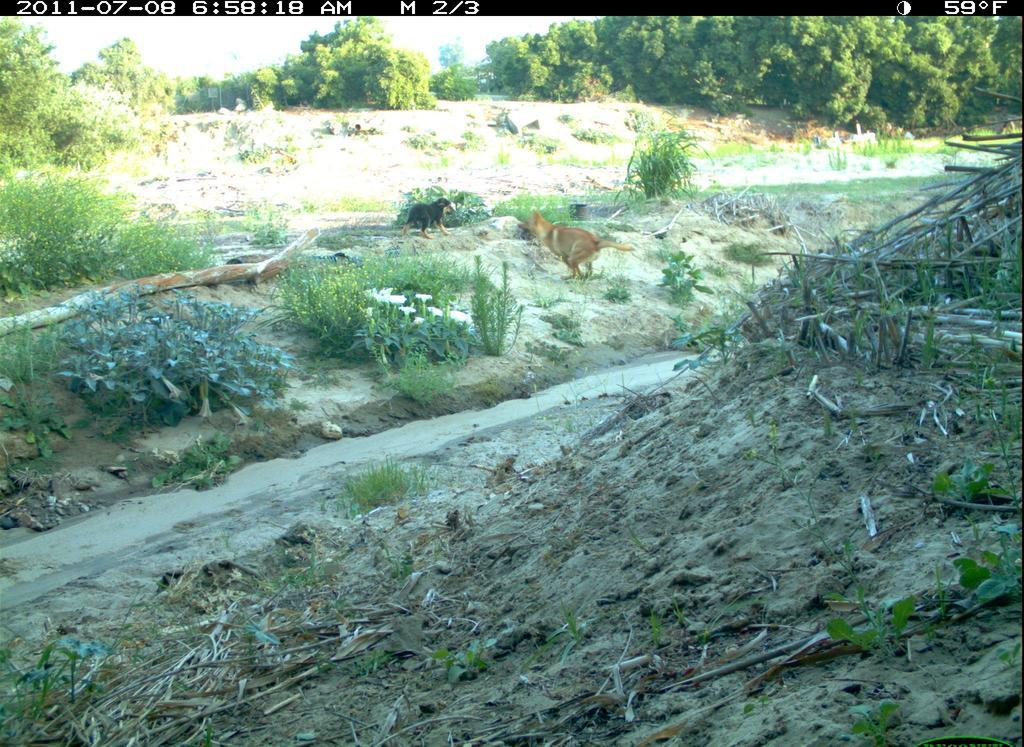dog: (515, 209, 641, 285), (399, 194, 459, 242)
